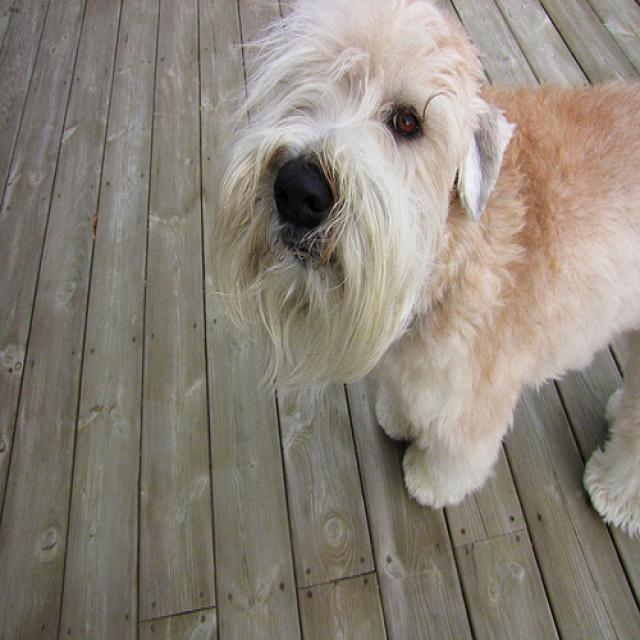dog-wheaten_terrier: (210, 2, 637, 551)
